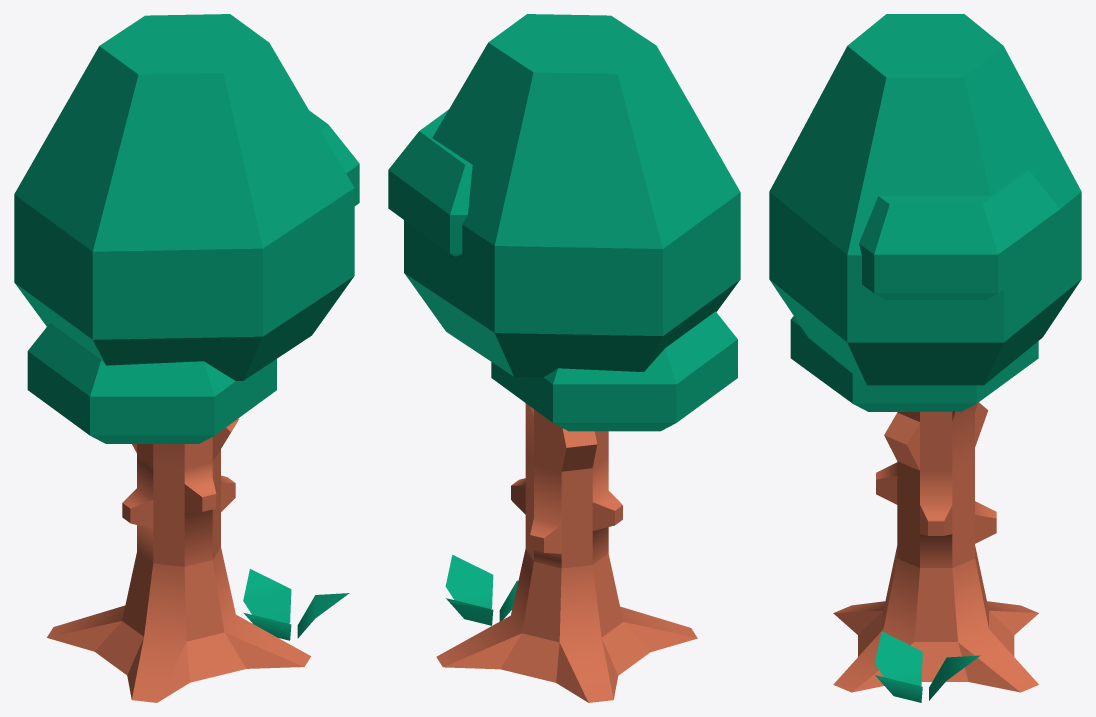
The model's file is TreeOne.fbx.
The picture shows the model from 3 angles, left to right: view 1: azimuth 30°, elevation 25°; view 2: azimuth 150°, elevation 25°; view 3: azimuth 270°, elevation 25°; orthographic projection.
Parts seen in each view (by area): view 1: mergedBlocks; view 2: mergedBlocks; view 3: mergedBlocks.
Part boxes in pixels (box(x1,y1,x2,y2)): mergedBlocks: box(14, 14, 359, 702); mergedBlocks: box(388, 14, 740, 702); mergedBlocks: box(769, 14, 1081, 702).
Size of the model in its own units: 15 by 31 by 14.55.
